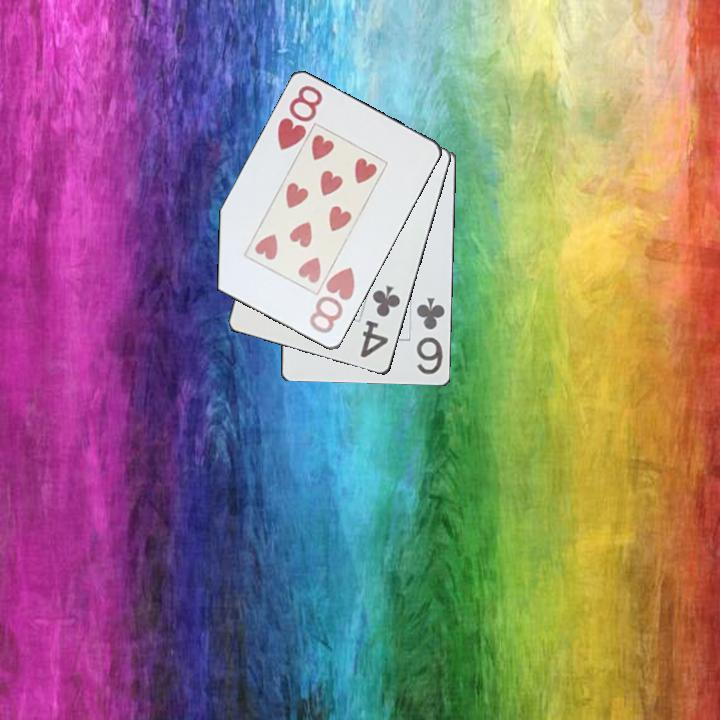4c: (357, 282, 404, 361)
6c: (413, 294, 448, 377)
8h: (306, 264, 358, 337), (274, 82, 326, 154)
